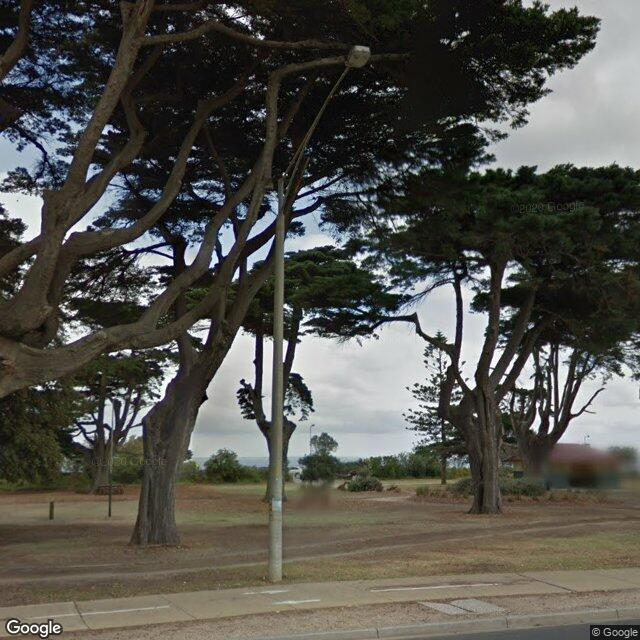concrete-pole: (269, 214, 285, 581)
streetlight: (279, 45, 371, 213)
